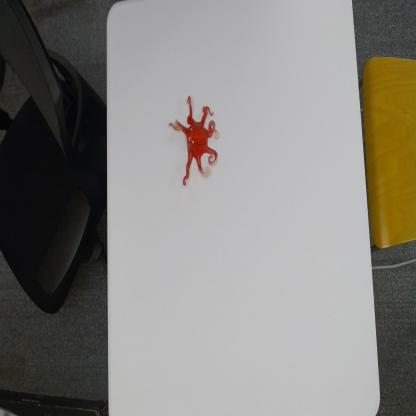Octopus: (166, 95, 221, 189)
